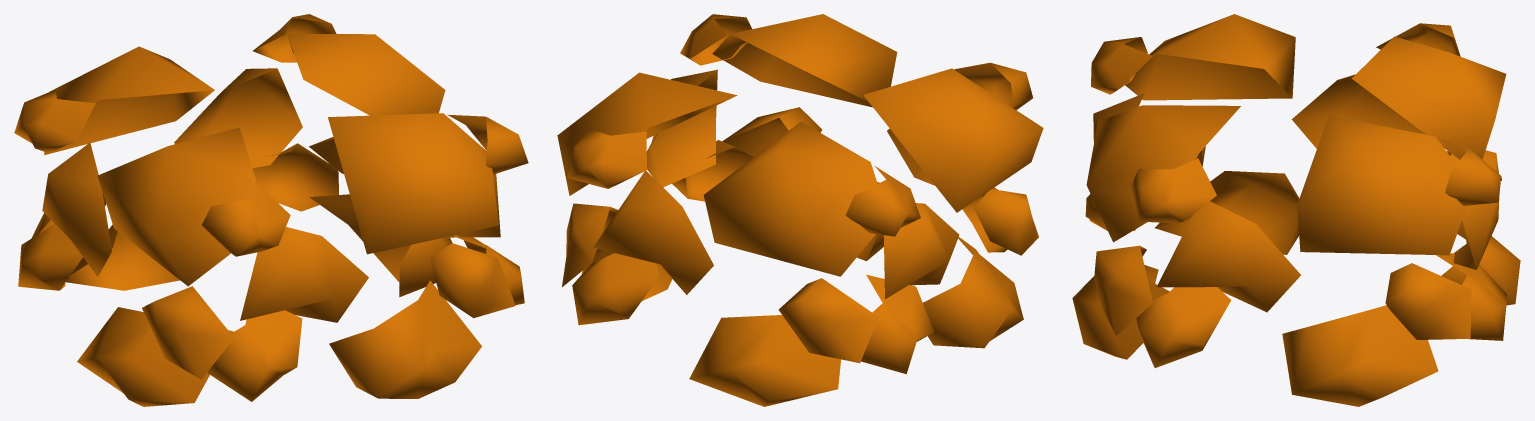
File: 3D_Tile_Ex_Rock_01.fbx
3 renders of one model, left to right at view 1: azimuth 30°, elevation 25°; view 2: azimuth 150°, elevation 25°; view 3: azimuth 270°, elevation 25°, orthographic. The views are drawn at different scales.
Visible parts, largest first — view 1: 3D_Tile_Ex_Rock_01; view 2: 3D_Tile_Ex_Rock_01; view 3: 3D_Tile_Ex_Rock_01.
Boxes of the visible parts, left/top/right/bottom form: 3D_Tile_Ex_Rock_01: left=14, top=14, right=528, bottom=406; 3D_Tile_Ex_Rock_01: left=557, top=14, right=1043, bottom=406; 3D_Tile_Ex_Rock_01: left=1072, top=14, right=1520, bottom=406.
Size of the model in its own units: 239 by 148 by 239.
